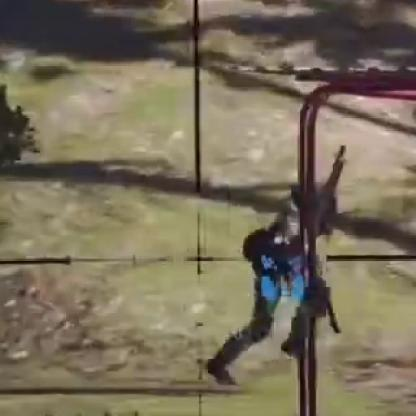enemy: (199, 179, 347, 394)
